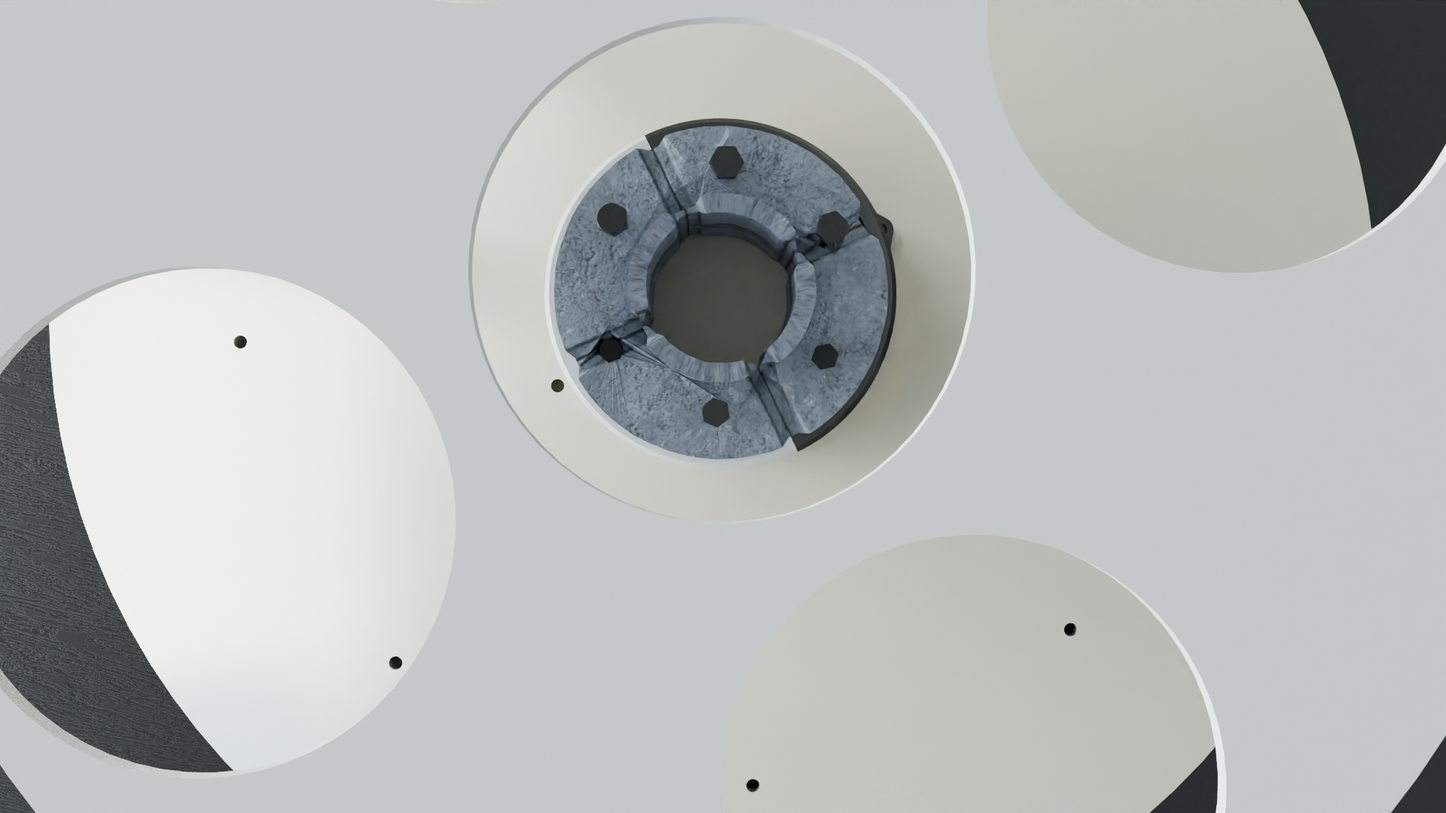bolt: (816, 211, 849, 243), (709, 146, 744, 176), (596, 202, 627, 235), (701, 397, 730, 428), (812, 343, 839, 370), (599, 338, 623, 363)
